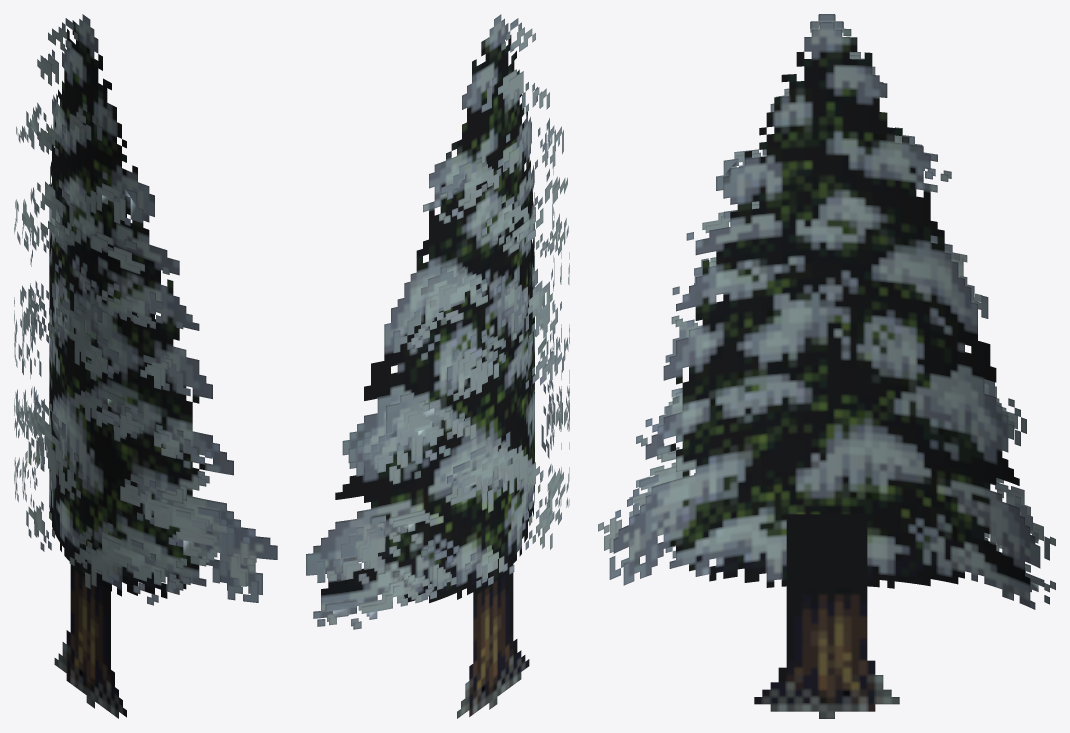
The model's file is ObjMD_Tree_Snow_B.FBX.
The picture shows the model from 3 angles, left to right: view 1: azimuth 30°, elevation 25°; view 2: azimuth 150°, elevation 25°; view 3: azimuth 270°, elevation 25°; orthographic projection.
Visible parts, largest first — view 1: ObjMD_Tree_Snow_B; view 2: ObjMD_Tree_Snow_B; view 3: ObjMD_Tree_Snow_B.
Boxes of the visible parts, x1,y1,x2,y2 form: ObjMD_Tree_Snow_B: [14, 14, 277, 718]; ObjMD_Tree_Snow_B: [306, 14, 569, 718]; ObjMD_Tree_Snow_B: [598, 14, 1055, 718].
Size of the model in its own units: 104 by 594 by 355.
